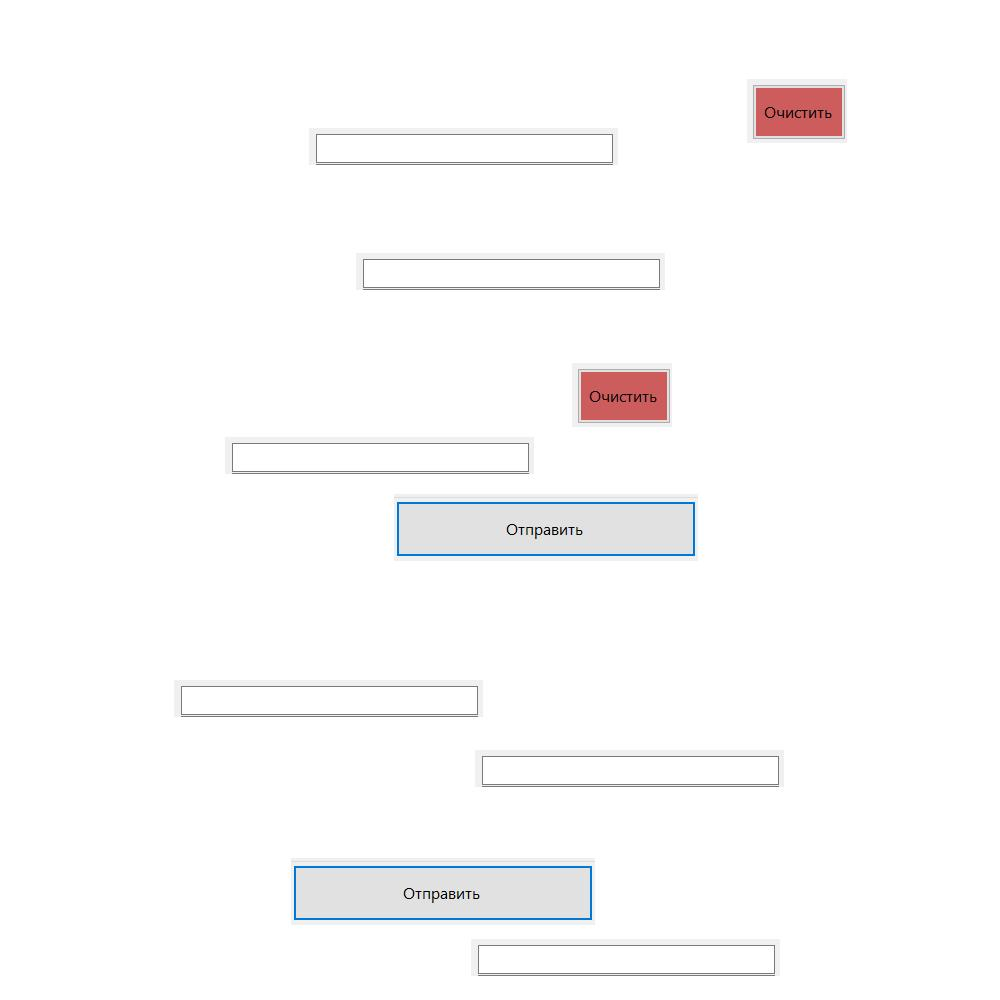Button: (394, 494, 698, 561), (291, 858, 595, 925), (747, 79, 847, 143), (572, 363, 672, 427)
EditText-: (309, 128, 618, 165), (356, 253, 665, 290), (174, 680, 483, 717), (225, 437, 534, 474), (475, 750, 784, 787), (471, 939, 780, 976)
